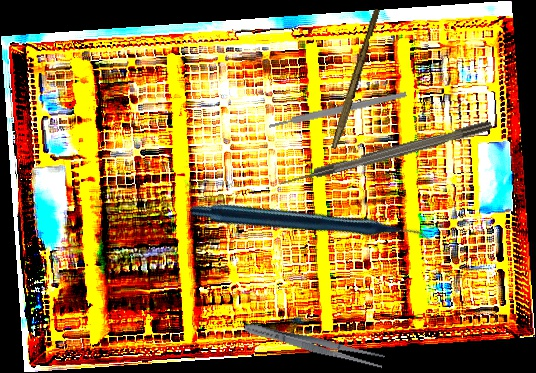Dressing Forceps: (242, 318, 386, 371)
Handpiece: (186, 104, 435, 350)
Hook Surgical: (276, 120, 494, 189)
Scalpel Handle: (331, 7, 381, 151), (267, 90, 408, 130)
